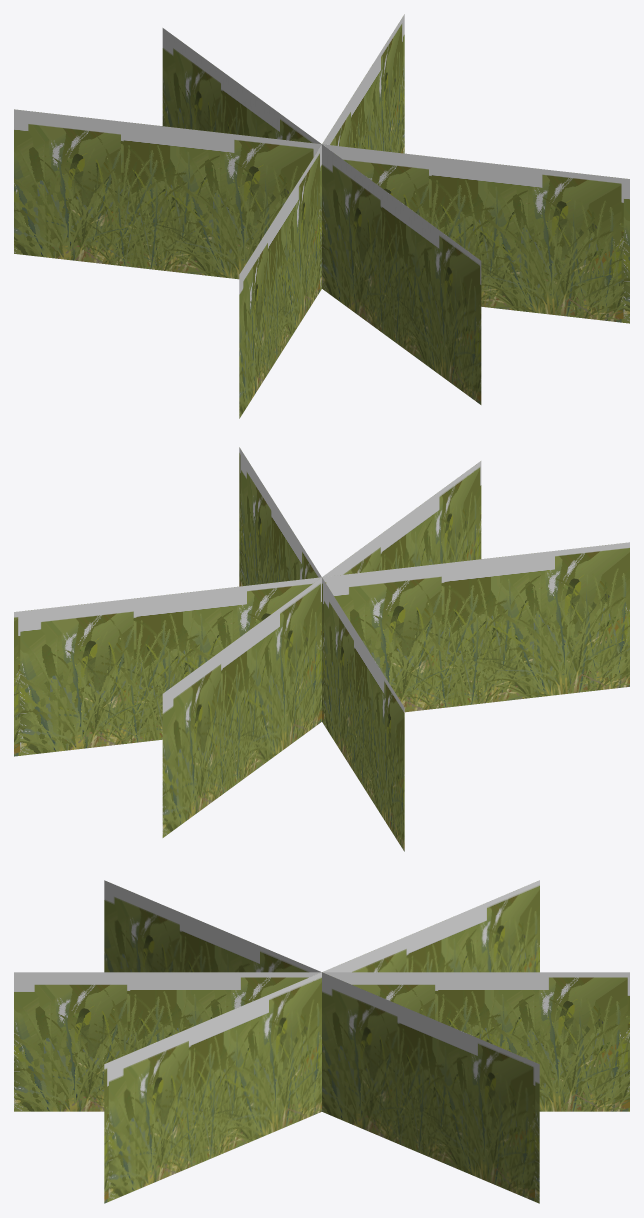
The model's file is high_grass.fbx.
3 views of the same model, one above another, from view 1: azimuth 30°, elevation 25°; view 2: azimuth 150°, elevation 25°; view 3: azimuth 270°, elevation 25° (orthographic). The views are drawn at different scales.
Parts seen in each view (by area): view 1: Model; view 2: Model; view 3: Model.
Boxes of the visible parts, box(x1,y1,x2,y2) form: Model: box(14, 14, 629, 418); Model: box(14, 447, 629, 851); Model: box(14, 880, 629, 1203).
Size of the model in its own units: 509 by 180 by 720.
